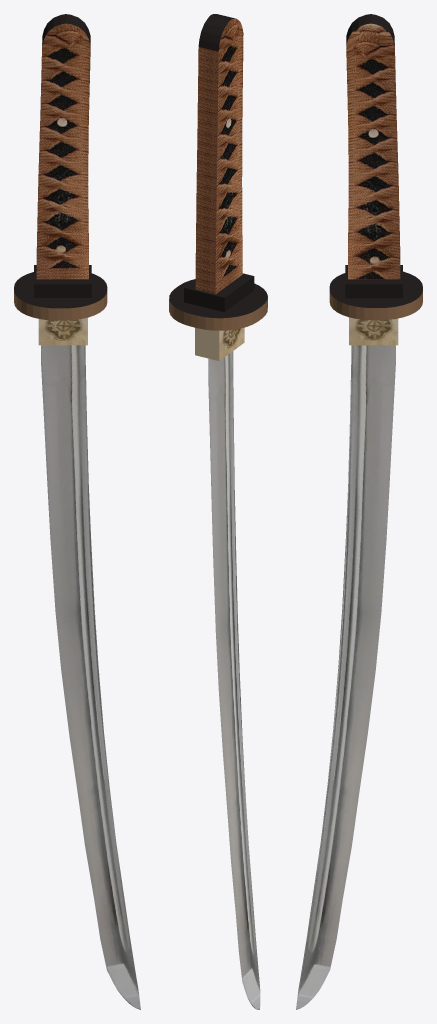
File: YCWakizashi.fbx
3 renders of one model, left to right at view 1: azimuth 90°, elevation 25°; view 2: azimuth 150°, elevation 25°; view 3: azimuth 270°, elevation 25°, orthographic. The views are drawn at different scales.
Visible parts, largest first — view 1: Wakizashi; view 2: Wakizashi; view 3: Wakizashi.
Part boxes in pixels (left/top/right/bottom): Wakizashi: left=14, top=14, right=140, bottom=1009; Wakizashi: left=169, top=14, right=267, bottom=1009; Wakizashi: left=296, top=14, right=422, bottom=1009.
Size of the model in its own units: 0.0443 by 0.5191 by 0.0602.
